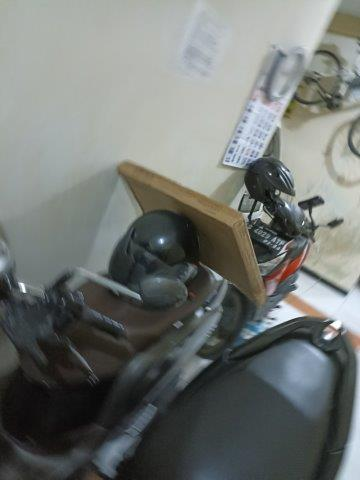kardus: (117, 159, 263, 304)
